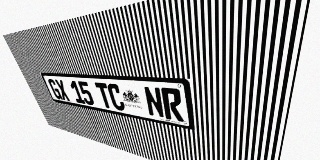1: (68, 80, 86, 104)
5: (77, 81, 95, 106)
C: (106, 83, 126, 111)
G: (47, 79, 63, 100)
N: (143, 86, 165, 119)
R: (161, 87, 184, 122)
T: (94, 82, 114, 109)
X: (54, 79, 71, 101)
